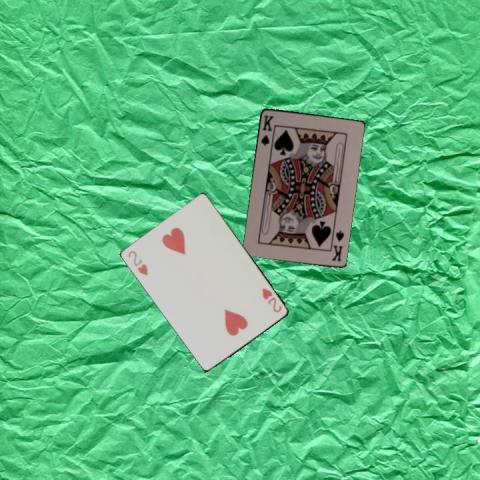2h: (125, 247, 150, 277), (260, 285, 284, 314)
Ks: (258, 112, 275, 147), (329, 227, 345, 263)
